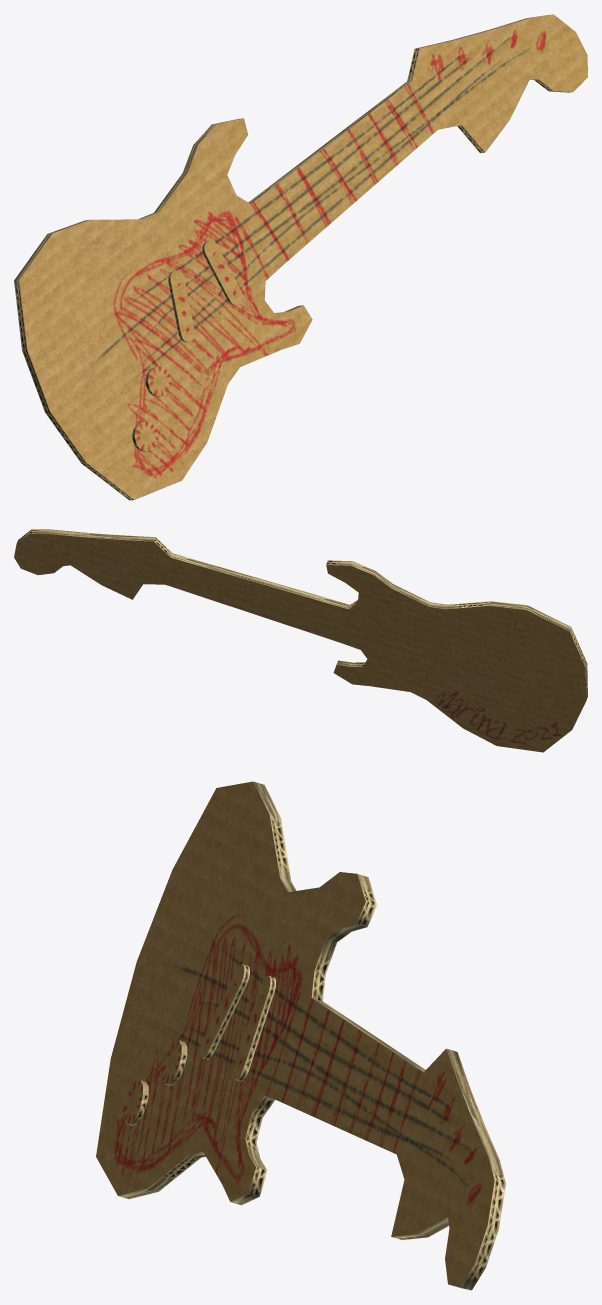
Rendered from cardboard_electric_guitar.glb.
The picture shows the model from 3 angles, top to bottom: view 1: azimuth 30°, elevation 25°; view 2: azimuth 150°, elevation 25°; view 3: azimuth 270°, elevation 25°; orthographic projection. The views are drawn at different scales.
Parts seen in each view (by area): view 1: Object_2; view 2: Object_2; view 3: Object_2.
Part boxes in pixels (left/top/right/bottom): Object_2: left=14, top=14, right=587, bottom=500; Object_2: left=14, top=529, right=587, bottom=752; Object_2: left=96, top=781, right=505, bottom=1290.
Size of the model in its own units: 23.25 by 9.19 by 8.3.
1 material, 1 textured.
